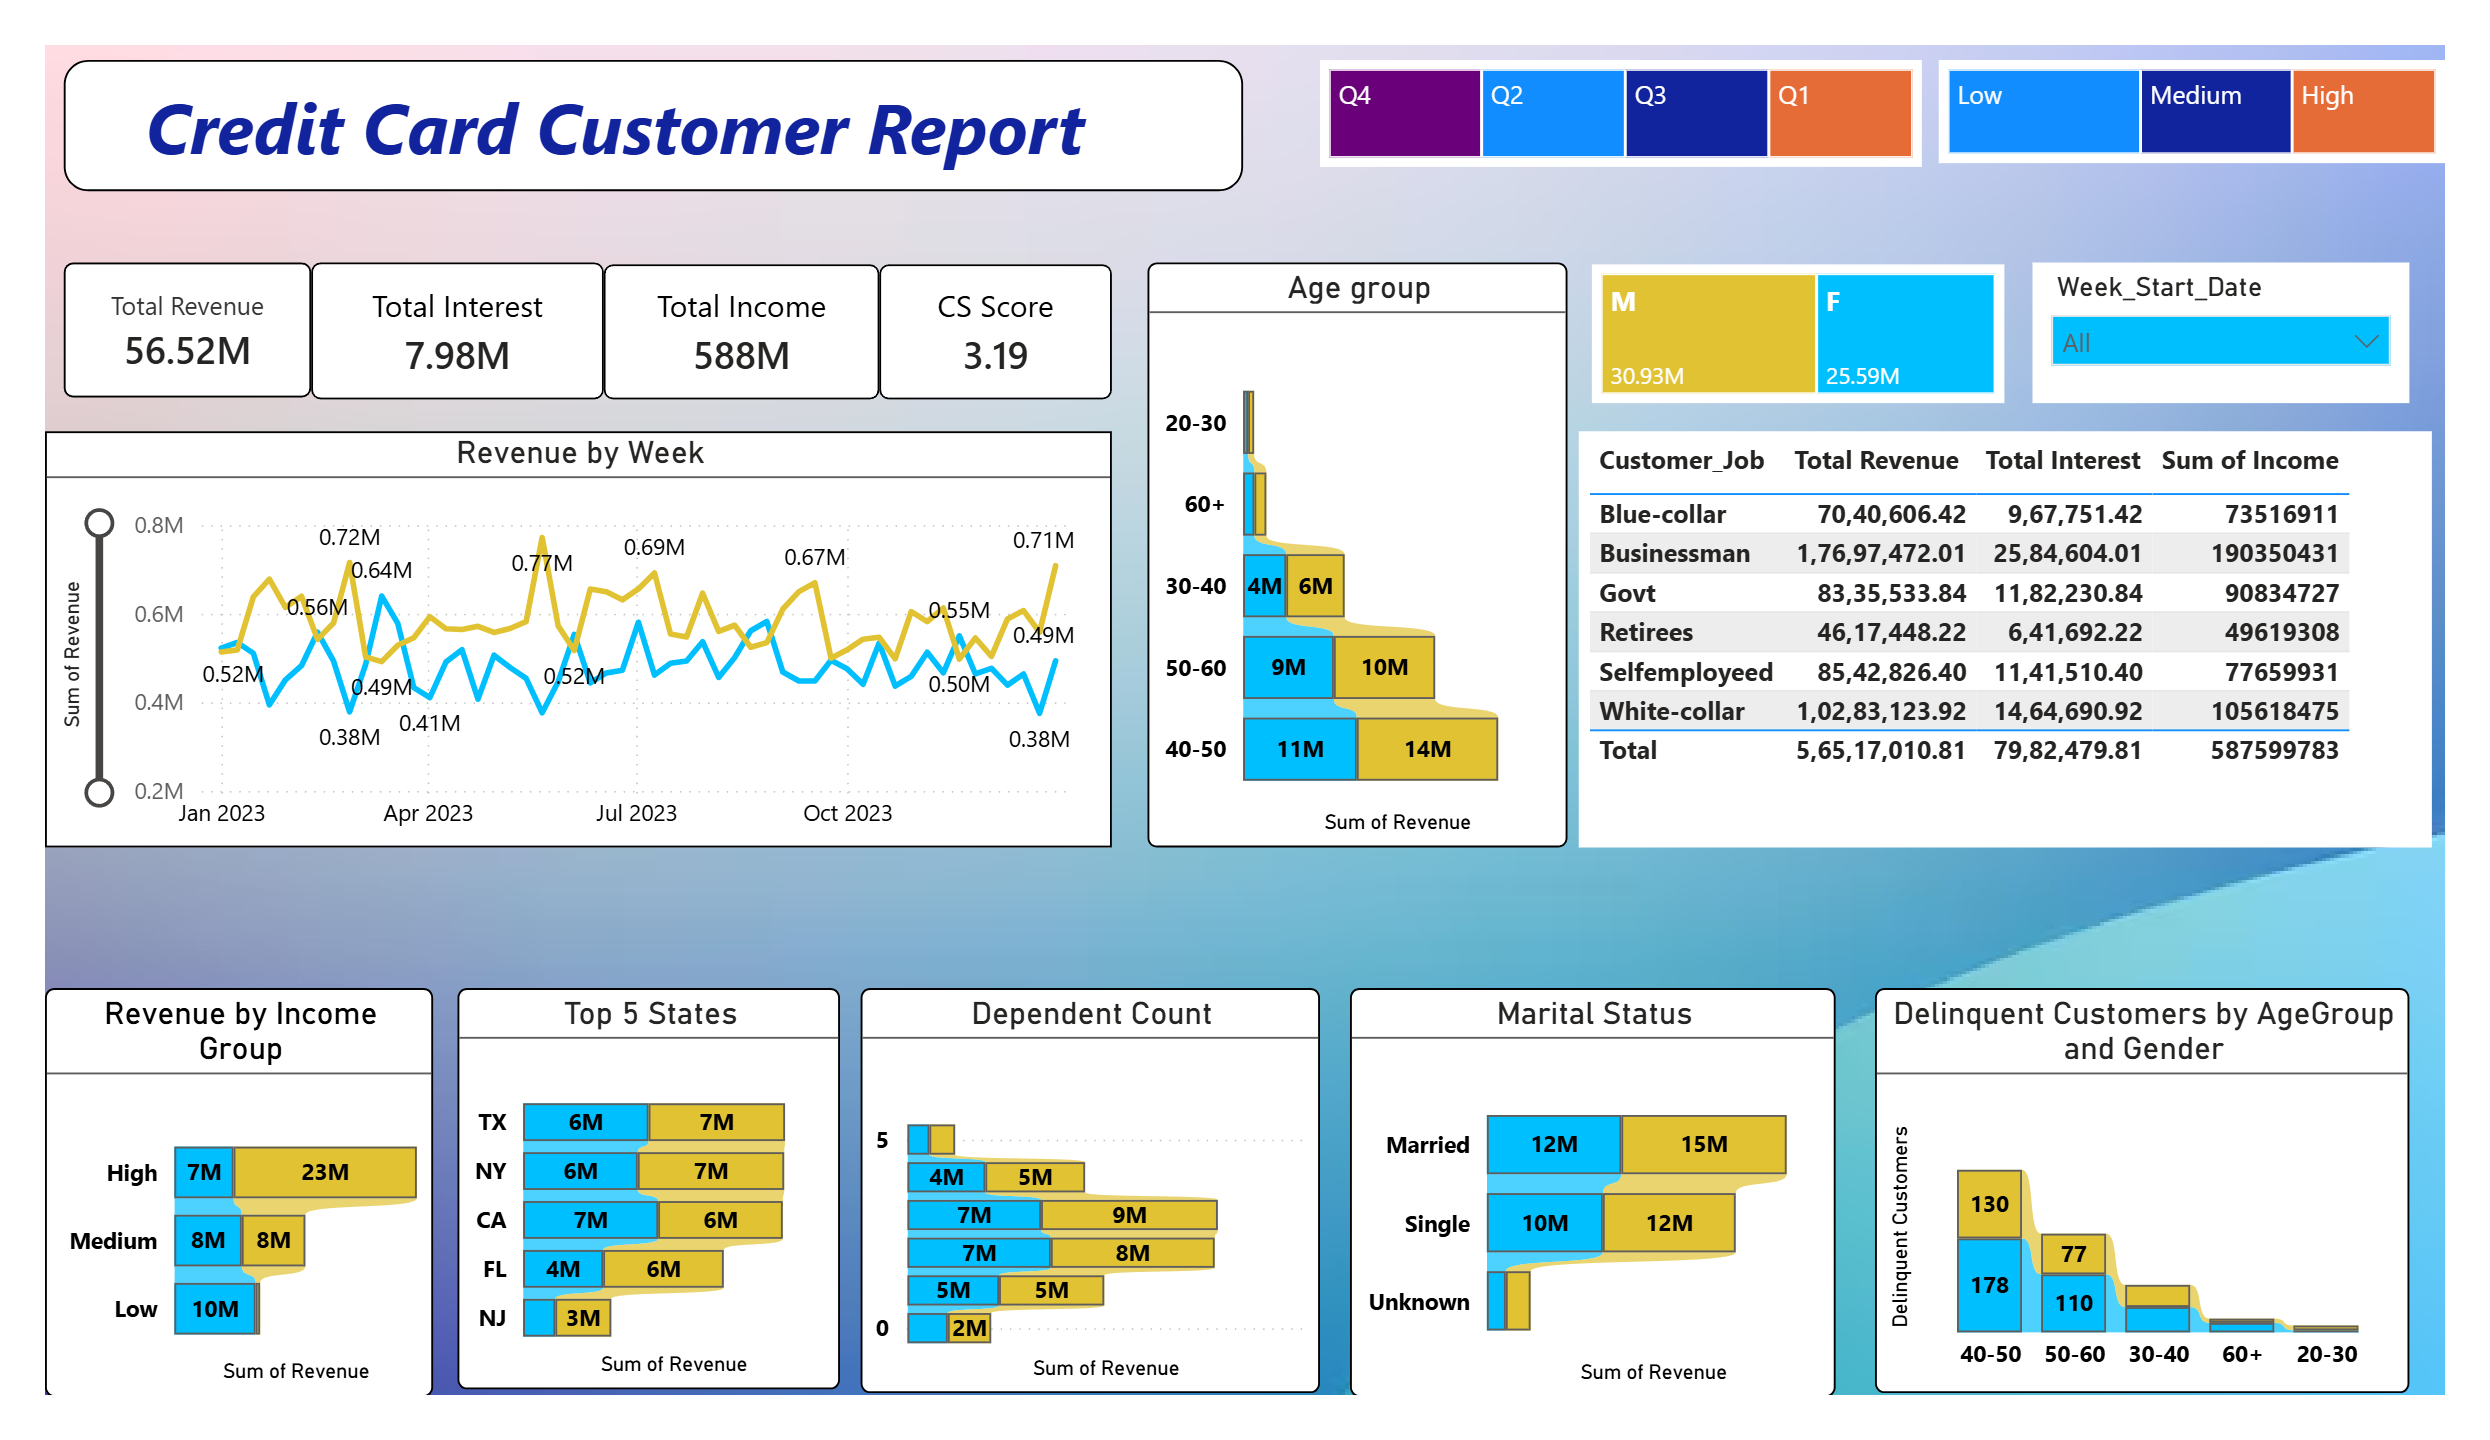

The page's visual inventory and layout, read from the dashboard file:
{"tool":"powerbi","page":{"name":" Credit Card Customer Report","canvas":[1280,720],"ordinal":1},"visuals":[{"type":"textbox","box":[9.7,8.4,629.8,70],"z":0},{"type":"tableEx","fields":{"Values":["cust_detail.Customer_Job","Sum(cc_details.Revenue)","Sum(cc_details.Interest_Earned)","Sum(cust_detail.Income)"]},"box":[818,206.3,454.8,222],"z":1000},{"type":"cardVisual","fields":{"Data":["Sum(cc_details.Revenue)"]},"box":[9.7,115.8,132.7,72.4],"z":2000},{"type":"cardVisual","fields":{"Data":["Sum(cc_details.Interest_Earned)"]},"box":[142.4,115.8,155.6,73.6],"z":3000},{"type":"cardVisual","fields":{"Data":["Sum(cust_detail.Income)"]},"box":[298,117,147.2,72.4],"z":4000},{"type":"cardVisual","fields":{"Data":["Avg(cust_detail.Cust_Satisfaction_Score)"]},"box":[445.2,117,124.3,72.4],"z":5000},{"type":"treemap","fields":{"Group":["cc_details.Qtr"],"Values":["CountNonNull(cust_detail.Client_Num)"]},"box":[680.4,8.4,320.9,56.7],"z":6000},{"type":"treemap","fields":{"Group":["cust_detail.Income Group"],"Values":["CountNonNull(cust_detail.Client_Num)"]},"box":[1009.8,8.4,270.2,54.3],"z":8000},{"type":"barChart","title":"Revenue by Income Group","fields":{"Y":["Sum(cc_details.Revenue)"],"Category":["cust_detail.Income Group"],"Series":["cust_detail.Gender"]},"box":[0,503.5,206.6,217.1],"z":9000},{"type":"barChart","title":"Age group","fields":{"Y":["Sum(cc_details.Revenue)"],"Category":["cust_detail.AgeGroup"],"Series":["cust_detail.Gender"]},"box":[587.5,115.8,224.4,312.5],"z":10000},{"type":"lineChart","title":"Revenue by Week","fields":{"Category":["cc_details.Week_Start_Date.Variation.Date Hierarchy.Year","cc_details.Week_Start_Date.Variation.Date Hierarchy.Month","cc_details.Week_Start_Date.Variation.Date Hierarchy.Day"],"Y":["Sum(cc_details.Revenue)"],"Series":["cust_detail.Gender"]},"box":[0,206.3,569.4,222],"z":10001},{"type":"treemap","fields":{"Group":["cust_detail.Gender"],"Values":["Sum(cc_details.Revenue)"]},"box":[825.2,117,219.6,74.1],"z":10002},{"type":"barChart","title":"Top 5 States","fields":{"Y":["Sum(cc_details.Revenue)"],"Category":["cust_detail.State_cd"],"Series":["cust_detail.Gender"]},"box":[219.7,503.5,204,213.2],"z":10003},{"type":"barChart","title":"Marital Status","fields":{"Y":["Sum(cc_details.Revenue)"],"Category":["cust_detail.Marital_Status"],"Series":["cust_detail.Gender"]},"box":[695.7,503.5,258.9,217.1],"z":10004},{"type":"barChart","title":"Dependent Count","fields":{"Y":["Sum(cc_details.Revenue)"],"Series":["cust_detail.Gender"],"Category":["cust_detail.Dependent_Count"]},"box":[435.5,503.5,244.5,215.8],"z":10005},{"type":"slicer","fields":{"Values":["cc_details.Week_Start_Date"]},"box":[1060.5,115.8,200.3,74.8],"z":10006},{"type":"columnChart","fields":{"Y":["cc_details.Delinquent Customers"],"Category":["cust_detail.AgeGroup"],"Series":["cust_detail.Gender"]},"box":[975.6,503.5,285.1,215.8],"z":10007}]}

Visuals, with their boxes in screenshot pixels (x1, y1, x2, y2), scaled from the page's 1280x720 canvas onto the 2490x1440 screenshot:
textbox: bbox(19, 17, 1244, 157)
tableEx - cust_detail.Customer_Job x Sum(cc_details.Revenue): bbox(1591, 413, 2476, 857)
cardVisual - Sum(cc_details.Revenue): bbox(19, 232, 277, 376)
cardVisual - Sum(cc_details.Interest_Earned): bbox(277, 232, 580, 379)
cardVisual - Sum(cust_detail.Income): bbox(580, 234, 866, 379)
cardVisual - Avg(cust_detail.Cust_Satisfaction_Score): bbox(866, 234, 1108, 379)
treemap - cc_details.Qtr x CountNonNull(cust_detail.Client_Num): bbox(1324, 17, 1948, 130)
treemap - cust_detail.Income Group x CountNonNull(cust_detail.Client_Num): bbox(1964, 17, 2489, 125)
"Revenue by Income Group" barChart: bbox(0, 1007, 402, 1439)
"Age group" barChart: bbox(1143, 232, 1579, 857)
"Revenue by Week" lineChart: bbox(0, 413, 1108, 857)
treemap - cust_detail.Gender x Sum(cc_details.Revenue): bbox(1605, 234, 2032, 382)
"Top 5 States" barChart: bbox(427, 1007, 824, 1433)
"Marital Status" barChart: bbox(1353, 1007, 1857, 1439)
"Dependent Count" barChart: bbox(847, 1007, 1323, 1439)
slicer - cc_details.Week_Start_Date: bbox(2063, 232, 2453, 381)
columnChart - cc_details.Delinquent Customers x cust_detail.AgeGroup: bbox(1898, 1007, 2452, 1439)
